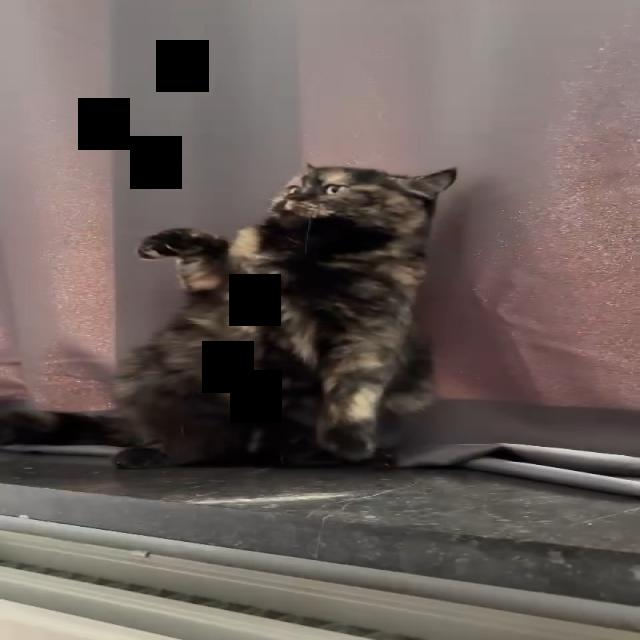authorized: (2, 162, 458, 470)
